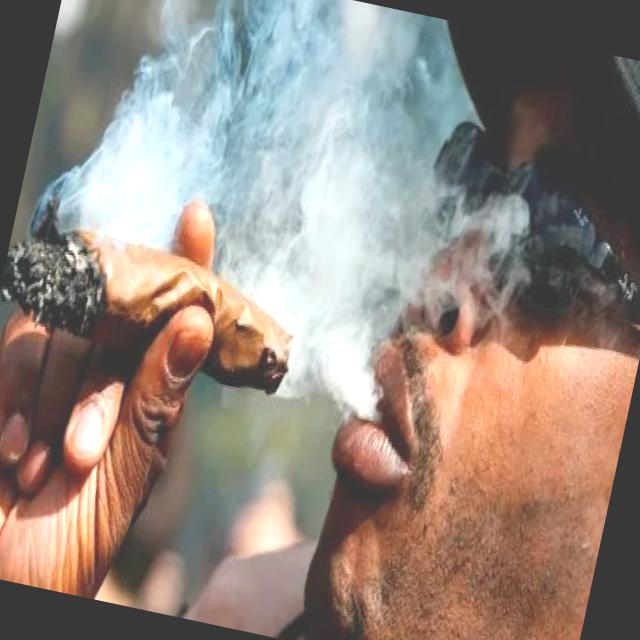smoke: (0, 186, 320, 405)
